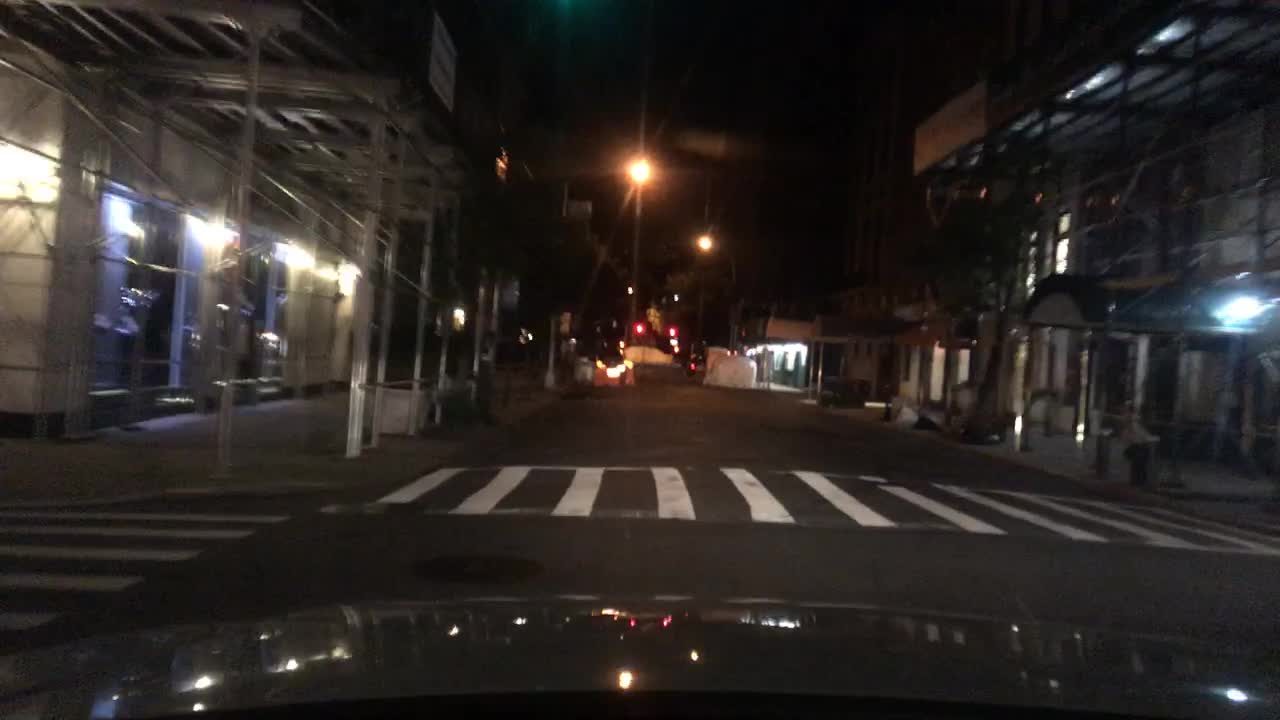motor: (686, 362, 695, 377)
rider: (688, 352, 696, 367)
traffic light: (633, 321, 643, 334), (668, 326, 676, 336)
